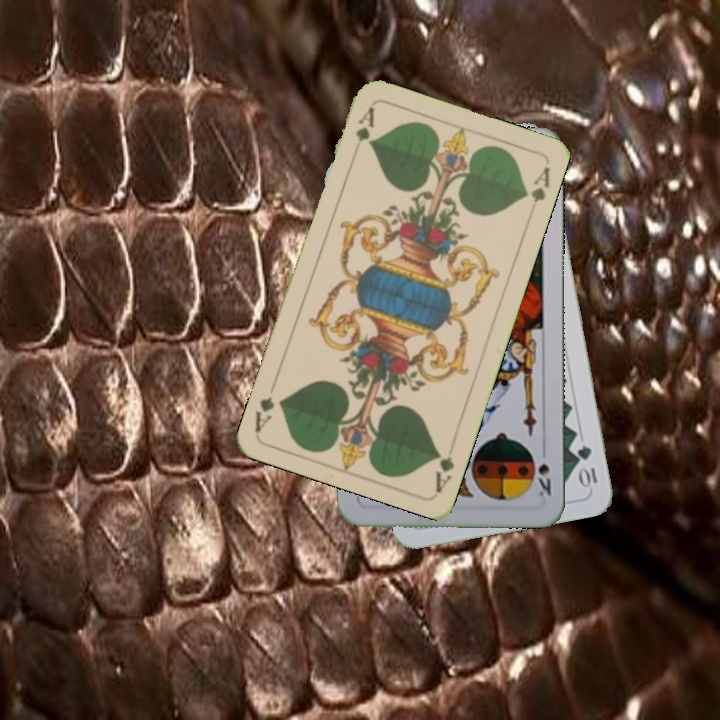G10: (573, 441, 600, 490)
GA: (348, 102, 377, 160), (431, 446, 457, 494)
SK: (533, 442, 554, 499)
